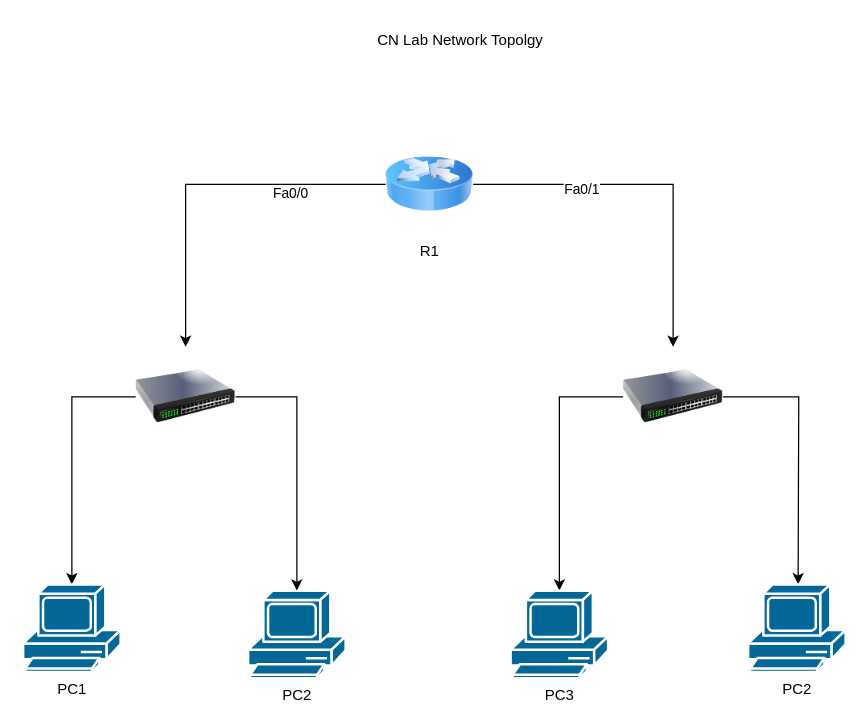
Some shapes in this 868 by 725 pixel diagram are drawn without their labels. The centre of each missing label's shape, as x and y in pixels:
SW1: [185,396]
SW2: [672,396]
